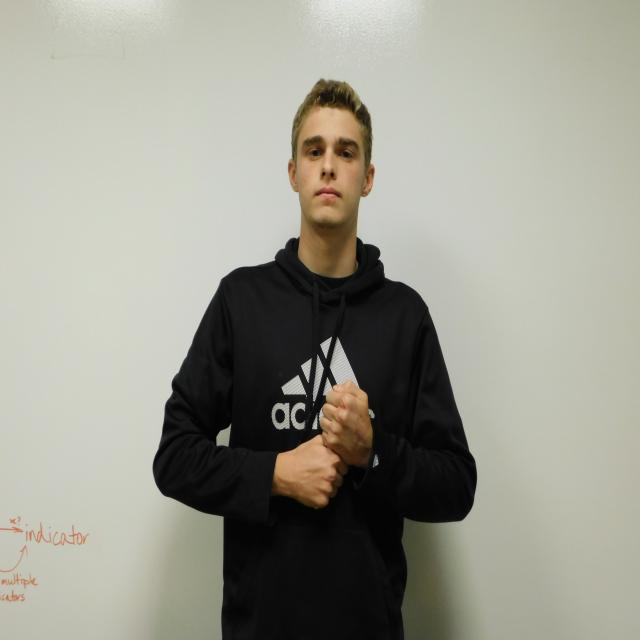get: (290, 380, 371, 510)
